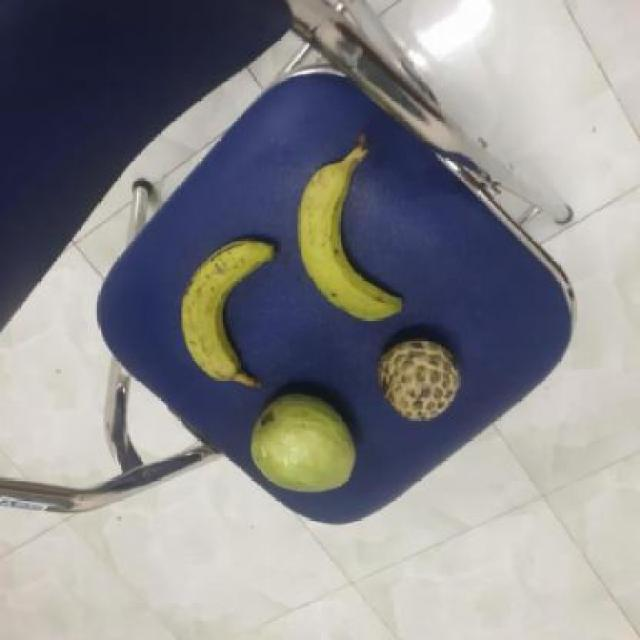banana: (299, 153, 410, 322), (180, 242, 283, 386)
guava: (248, 390, 362, 492)
sugar apple: (381, 338, 465, 422)
